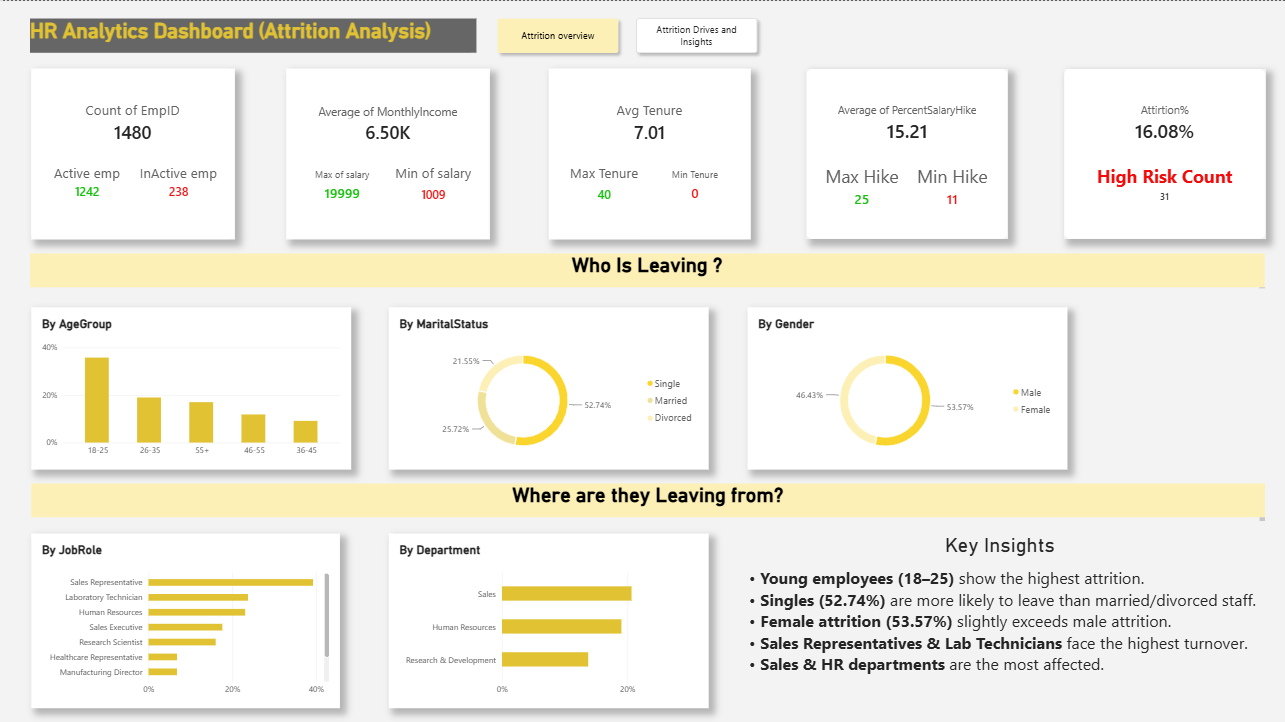

This screenshot's page, from the dashboard's own definition file:
{"tool":"powerbi","page":{"name":"Attrition overview","canvas":[1920,1080],"ordinal":0},"visuals":[{"type":"cardVisual","fields":{"Data":["CountNonNull(HR_Analytics - HR_Analytics.EmpID)"]},"box":[46.3,100,303.7,255.6],"z":0},{"type":"cardVisual","fields":{"Data":["Avg(HR_Analytics - HR_Analytics.MonthlyIncome)"]},"box":[427.8,100,303.7,255.6],"z":1000},{"type":"cardVisual","fields":{"Data":["Avg(HR_Analytics - HR_Analytics.YearsAtCompany)"]},"box":[818.5,100,301.9,255.6],"z":2000},{"type":"cardVisual","fields":{"Data":["Avg(HR_Analytics - HR_Analytics.PercentSalaryHike)"]},"box":[1203.7,100,301.9,255.6],"z":3000},{"type":"cardVisual","fields":{"Data":["_Measure.Attirtion%"]},"box":[1587,100,301.9,255.6],"z":4000},{"type":"textbox","title":"Who Is Leaving ?","box":[44.8,376.9,1843.5,52.2],"z":5000},{"type":"columnChart","title":"By AgeGroup","fields":{"Category":["HR_Analytics - HR_Analytics.AgeGroup"],"Y":["_Measure.Attirtion%"]},"box":[46.3,457.4,477.8,242.6],"z":6000},{"type":"donutChart","title":"By Gender","fields":{"Category":["HR_Analytics - HR_Analytics.Gender"],"Y":["_Measure.Attirtion%"]},"box":[1116.7,457.4,477.8,242.6],"z":7000},{"type":"donutChart","title":"By MaritalStatus","fields":{"Category":["HR_Analytics - HR_Analytics.MaritalStatus"],"Y":["_Measure.Attirtion%"]},"box":[579.6,457.4,477.8,242.6],"z":8000},{"type":"textbox","title":"Where are they Leaving from?","box":[46.6,720.3,1841.7,56],"z":9000},{"type":"clusteredBarChart","title":"By JobRole","fields":{"Category":["HR_Analytics - HR_Analytics.JobRole"],"Y":["_Measure.Attirtion%"]},"box":[46.3,794.4,461.1,261.1],"z":10000},{"type":"clusteredBarChart","title":"By Department","fields":{"Category":["HR_Analytics - HR_Analytics.Department"],"Y":["_Measure.Attirtion%"]},"box":[579.6,794.4,477.8,261.1],"z":11000},{"type":"textbox","title":"HR Analytics Dashboard (Attrition Analysis)","box":[44.8,26.1,666.1,52.2],"z":12000},{"type":"pageNavigator","box":[733.3,16.8,406.8,70.9],"z":13000}]}

Visuals, with their boxes in screenshot pixels (x1, y1, x2, y2), scaled from the page's 1920x1080 canvas onto the 1285x722 screenshot:
cardVisual - CountNonNull(HR_Analytics - HR_Analytics.EmpID): bbox=[31, 67, 234, 238]
cardVisual - Avg(HR_Analytics - HR_Analytics.MonthlyIncome): bbox=[286, 67, 490, 238]
cardVisual - Avg(HR_Analytics - HR_Analytics.YearsAtCompany): bbox=[548, 67, 750, 238]
cardVisual - Avg(HR_Analytics - HR_Analytics.PercentSalaryHike): bbox=[806, 67, 1008, 238]
cardVisual - _Measure.Attirtion%: bbox=[1062, 67, 1264, 238]
"Who Is Leaving ?" textbox: bbox=[30, 252, 1264, 287]
"By AgeGroup" columnChart: bbox=[31, 306, 351, 468]
"By Gender" donutChart: bbox=[747, 306, 1067, 468]
"By MaritalStatus" donutChart: bbox=[388, 306, 708, 468]
"Where are they Leaving from?" textbox: bbox=[31, 482, 1264, 519]
"By JobRole" clusteredBarChart: bbox=[31, 531, 340, 706]
"By Department" clusteredBarChart: bbox=[388, 531, 708, 706]
"HR Analytics Dashboard (Attrition Analysis)" textbox: bbox=[30, 17, 476, 52]
pageNavigator: bbox=[491, 11, 763, 59]
